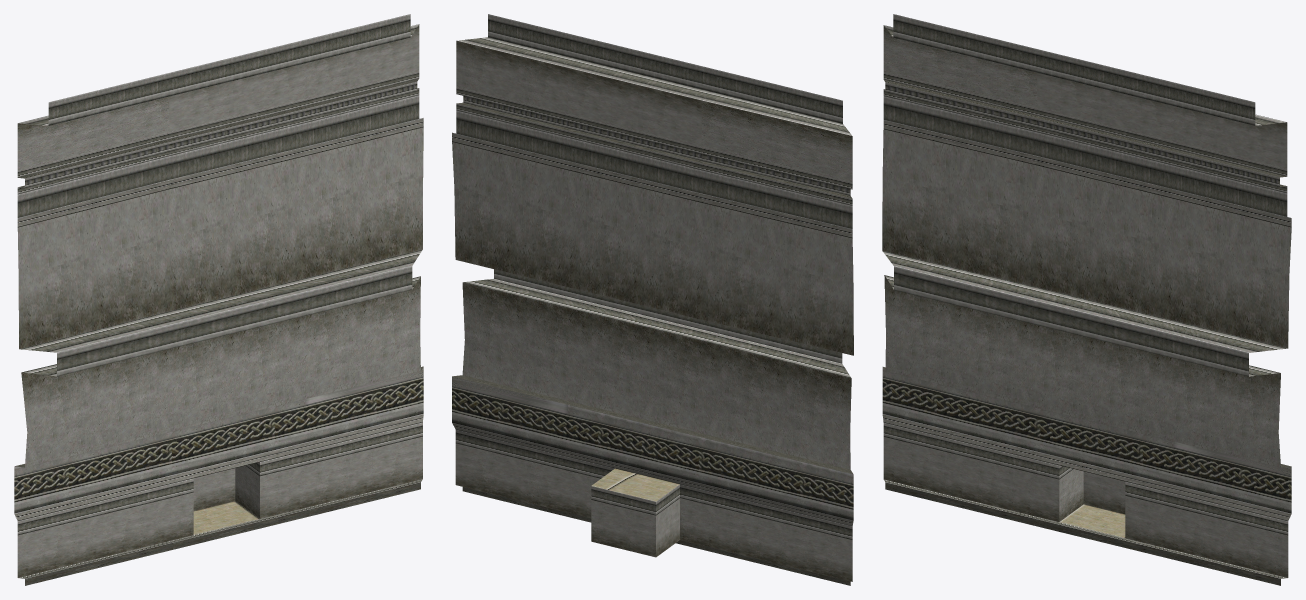
The model's file is DWARF_PALACE_MAINHALL_WALL02B01.fbx.
3 views of the same model, side by side, from view 1: azimuth 30°, elevation 25°; view 2: azimuth 150°, elevation 25°; view 3: azimuth 330°, elevation 25° (orthographic). The views are drawn at different scales.
Parts seen in each view (by area): view 1: DWARF_PALACE_MAINHALL_WALL02B01; view 2: DWARF_PALACE_MAINHALL_WALL02B01; view 3: DWARF_PALACE_MAINHALL_WALL02B01.
Boxes of the visible parts, x1,y1,x2,y2 form: DWARF_PALACE_MAINHALL_WALL02B01: (14,14,423,585); DWARF_PALACE_MAINHALL_WALL02B01: (452,14,853,585); DWARF_PALACE_MAINHALL_WALL02B01: (882,14,1291,585).
Bounding box in the file's own units: 181000 × 205000 × 29771.
Materials: 9 (9 with a texture image).
